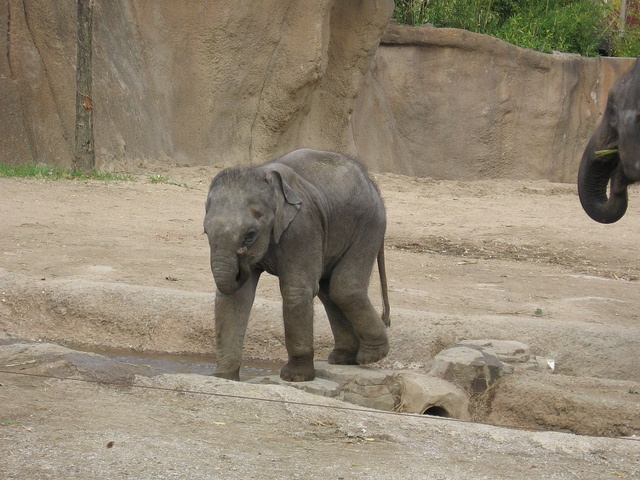elephant: (299, 266, 492, 480)
